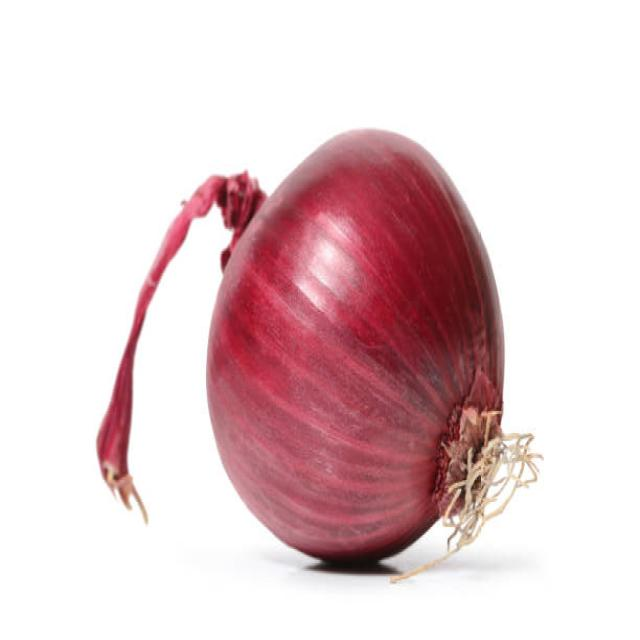onion: (189, 104, 510, 565)
